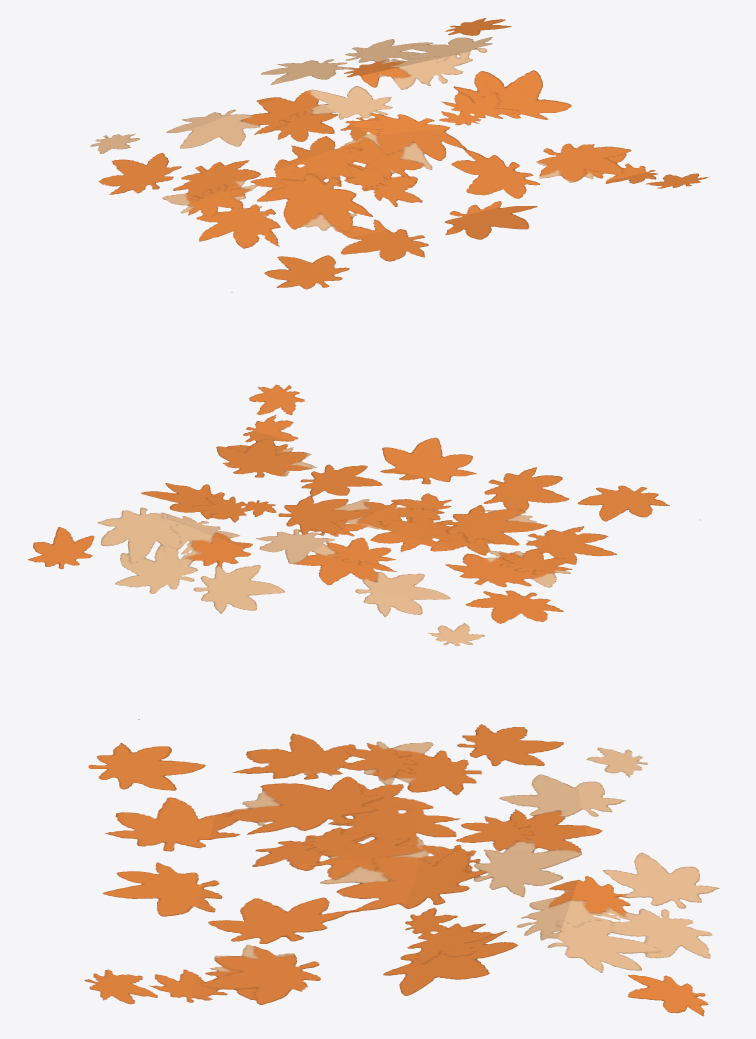
File: SM_Maple_Leaves_Pile_Yellow_White.fbx
The picture shows the model from 3 angles, top to bottom: view 1: azimuth 30°, elevation 25°; view 2: azimuth 150°, elevation 25°; view 3: azimuth 270°, elevation 25°; orthographic projection. The views are drawn at different scales.
Parts seen in each view (by area): view 1: Plane.009; view 2: Plane.009; view 3: Plane.009.
Boxes of the visible parts, left/top/right/bottom form: Plane.009: left=90, top=18, right=709, bottom=292; Plane.009: left=28, top=384, right=700, bottom=646; Plane.009: left=84, top=719, right=719, bottom=1016.
Size of the model in its own units: 18.96 by 1.39 by 18.96.
